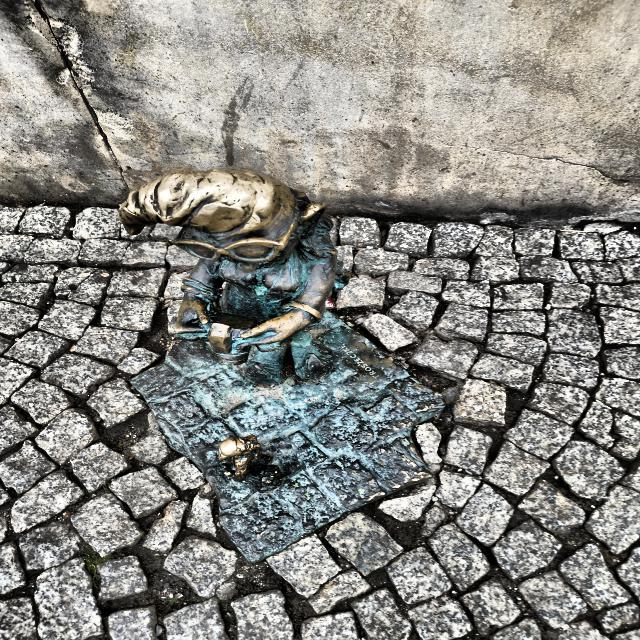Troszka i Adoratorek: (119, 168, 451, 567)
